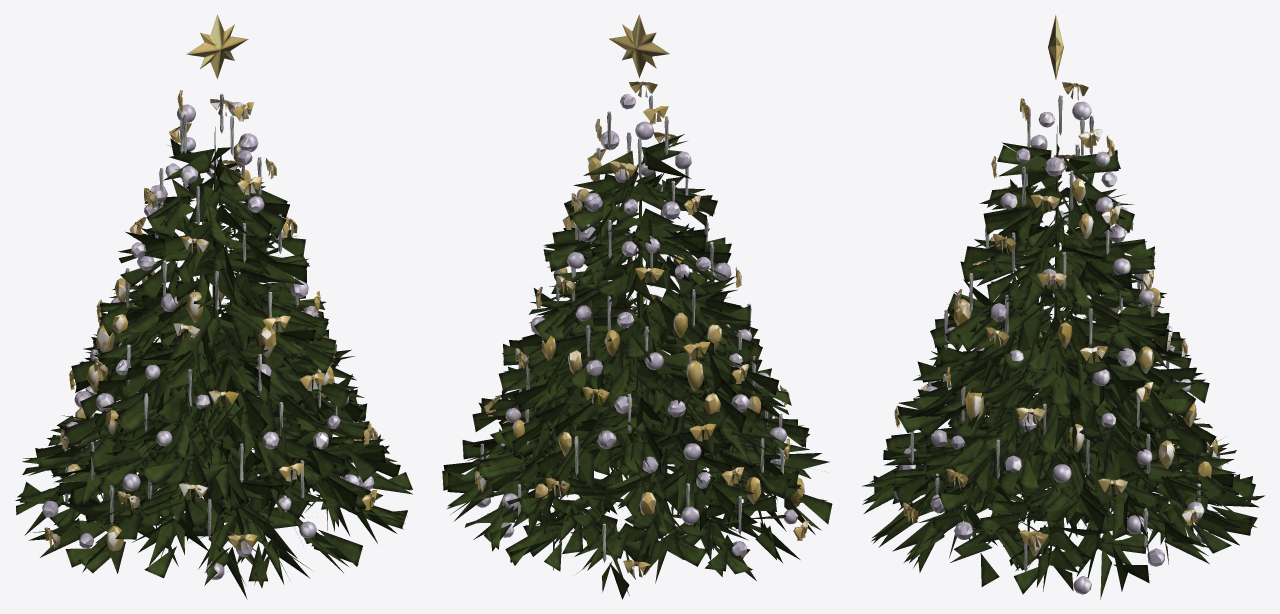
3 renders of one model, left to right at view 1: azimuth 30°, elevation 25°; view 2: azimuth 150°, elevation 25°; view 3: azimuth 270°, elevation 25°, orthographic. The views are drawn at different scales.
Parts seen in each view (by area): view 1: glass_001, solid_001, solid_006, solid_002, solid_005; view 2: glass_001, solid_001, solid_006, solid_002, solid_005; view 3: glass_001, solid_001, solid_006, solid_002, solid_005.
Boxes of the visible parts, box(x1,y1,x2,y2) form: glass_001: box(15, 127, 412, 599); solid_001: box(44, 90, 377, 551); solid_006: box(42, 102, 374, 579); solid_002: box(65, 93, 364, 537); solid_005: box(188, 14, 248, 78); glass_001: box(442, 134, 832, 599); solid_001: box(475, 81, 808, 577); solid_006: box(476, 94, 798, 557); solid_002: box(480, 95, 784, 562); solid_005: box(609, 14, 668, 77); glass_001: box(862, 126, 1264, 599); solid_001: box(886, 82, 1221, 556); solid_006: box(894, 101, 1213, 594); solid_002: box(910, 95, 1220, 571); solid_005: box(1048, 15, 1063, 79).
Size of the model in its own units: 1 by 1.46 by 1.01.
1 material, 1 textured.
